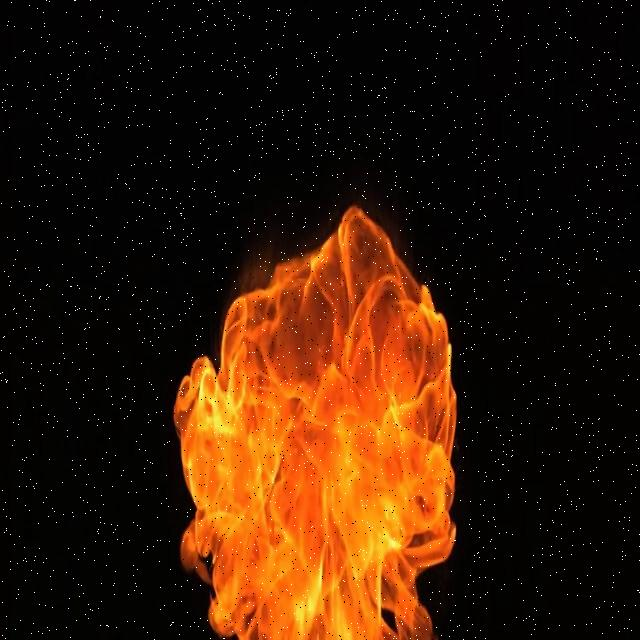fire: (172, 181, 498, 640)
